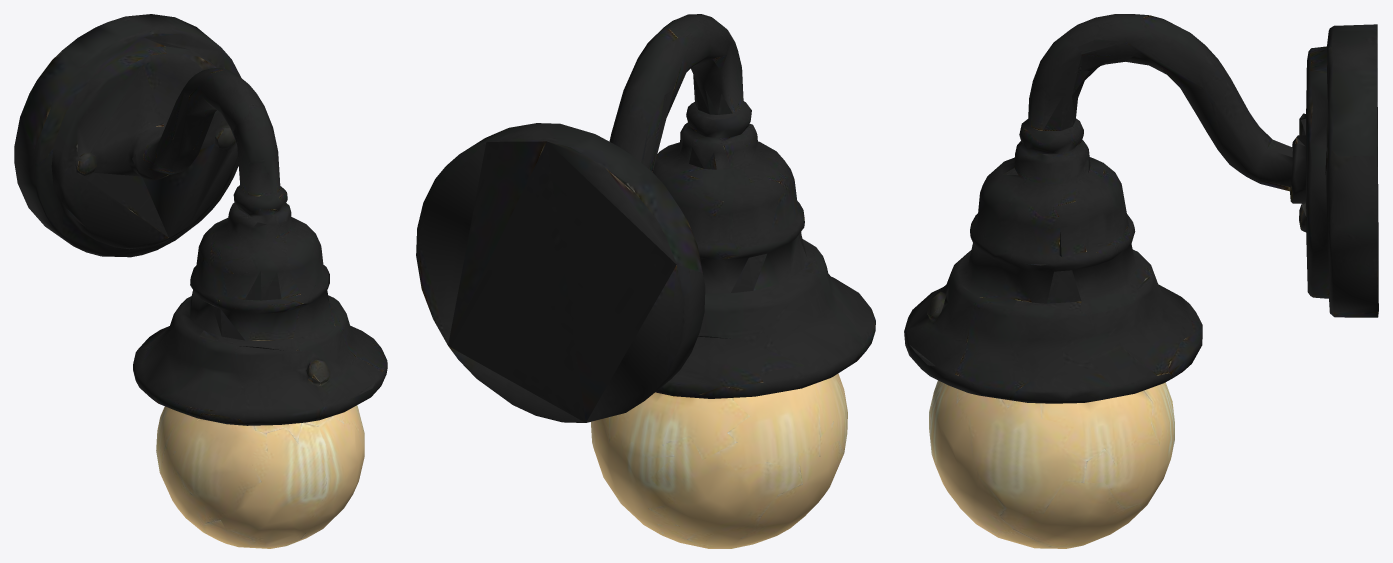
The model's file is wall_sconce.gltf.
3 renders of one model, left to right at view 1: azimuth 30°, elevation 25°; view 2: azimuth 150°, elevation 25°; view 3: azimuth 270°, elevation 25°, orthographic. The views are drawn at different scales.
Visible parts, largest first — view 1: wall_sconce; view 2: wall_sconce; view 3: wall_sconce.
Part boxes in pixels (x1=…): wall_sconce: x1=14, y1=14, x2=387, y2=548; wall_sconce: x1=416, y1=14, x2=875, y2=548; wall_sconce: x1=904, y1=14, x2=1378, y2=548.
Bounding box in the file's own units: 0.3174 × 0.6061 × 0.5.
Materials: 1 (1 with a texture image).
